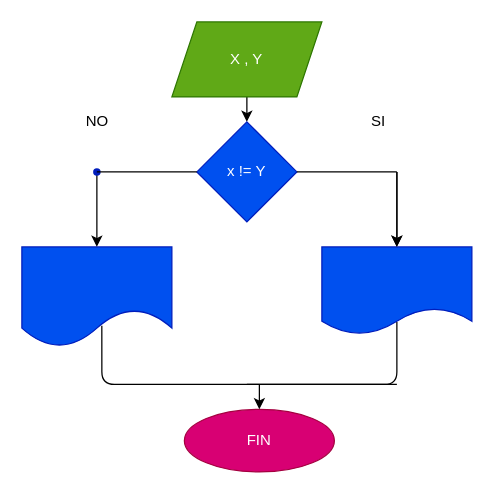
This 494x494 diagram has some shape labels left out. The shapes that lost their labels are listed below. From the top down, each one's centre as x and y in pixels, then its label:
(96,296): Son iguales
(396,290): Son diferentes
